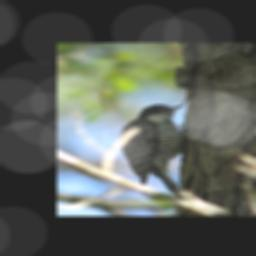Woodpecker: (119, 103, 187, 198)
